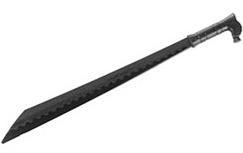MACHETTE: (1, 9, 243, 153)
